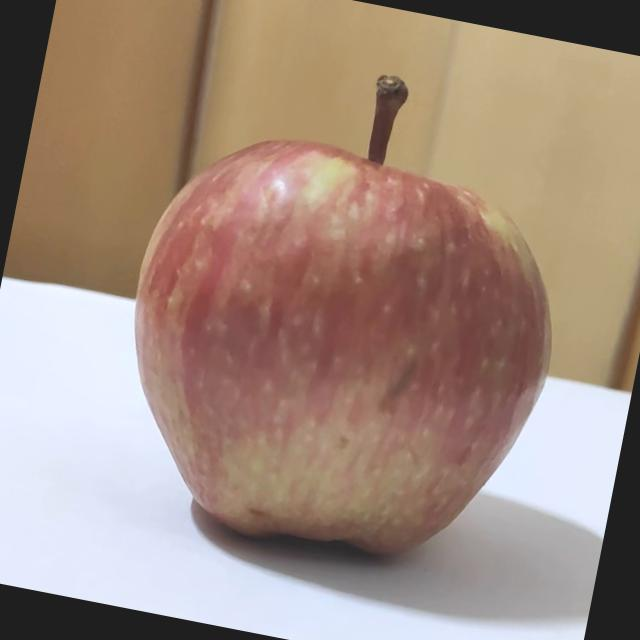apple: (94, 27, 605, 590)
